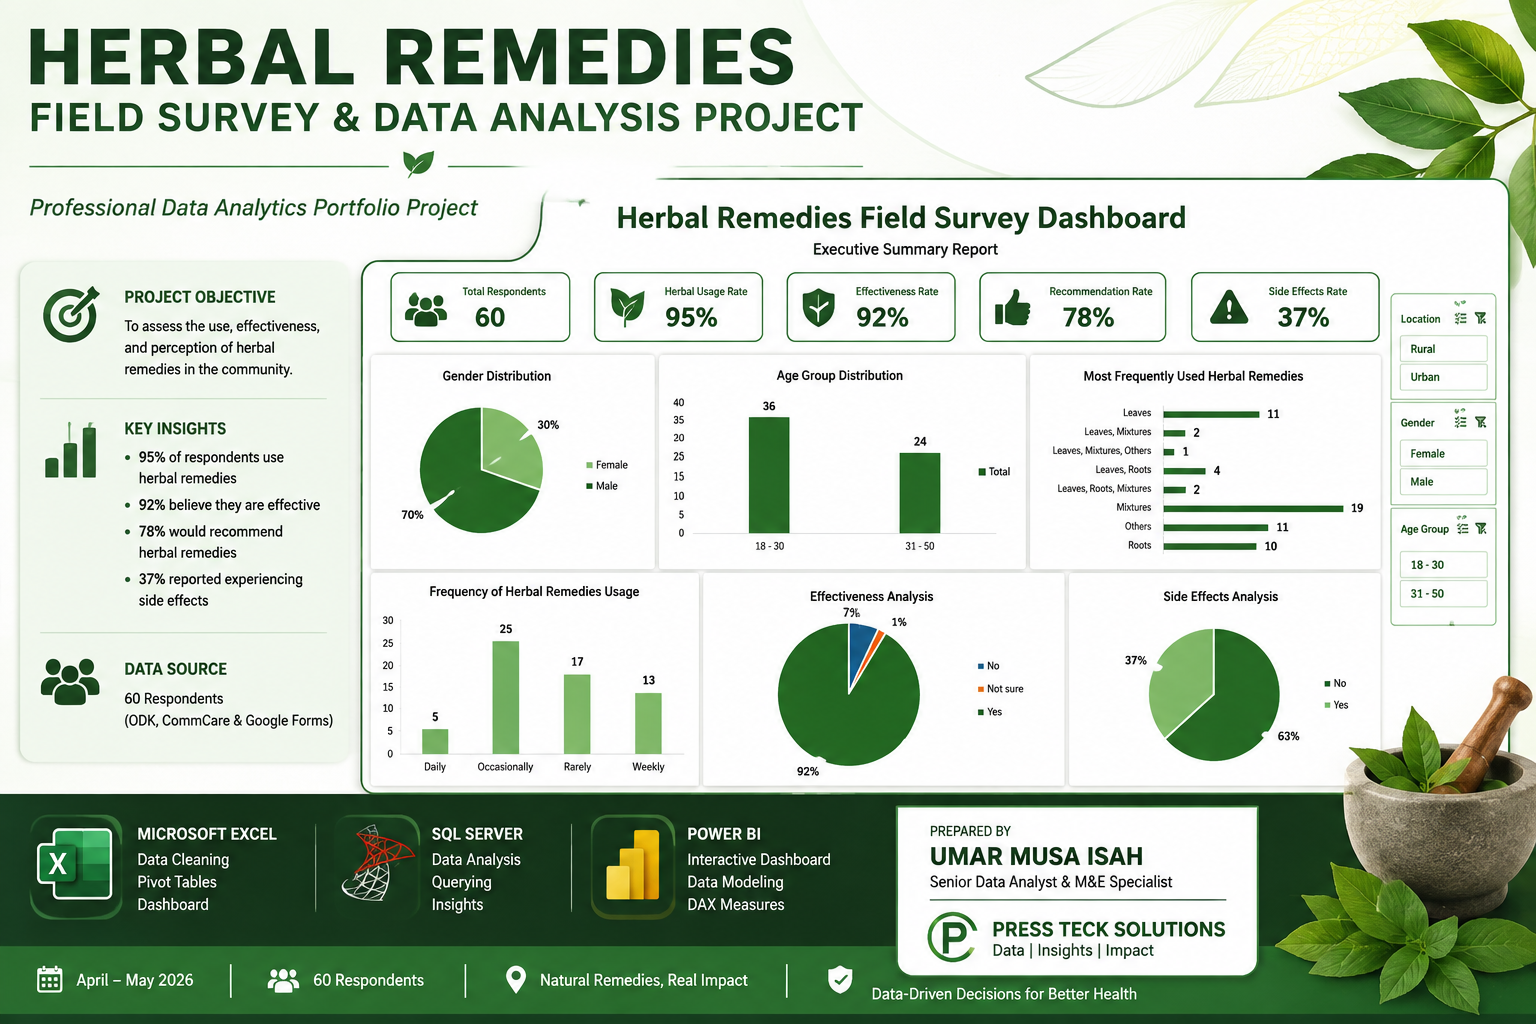

The page's visual inventory and layout, read from the dashboard file:
{"tool":"powerbi","page":{"name":"Executive Dashboard","canvas":[1280,720],"ordinal":0},"visuals":[{"type":"shape","box":[0,0,1279.1,79.5],"z":0},{"type":"textbox","box":[79.6,0,1148.7,54.8],"z":1000},{"type":"textbox","box":[82.1,52.3,1146.2,27.4],"z":2000},{"type":"card","title":"Total Respondents","fields":{"Values":["Measures_View.Total Respondents"]},"box":[13,100.2,204.3,139.2],"z":3000},{"type":"card","title":"Herbal Usage","fields":{"Values":["Measures_View.Herbal Usage %"]},"box":[239.4,98.9,204.3,140.5],"z":4000},{"type":"card","title":"Perceived Effectiveness","fields":{"Values":["Measures_View.Effectiveness %"]},"box":[465.9,98.9,204.3,140.5],"z":5000},{"type":"card","title":"Recommendation Rate","fields":{"Values":["Measures_View.Recommendation %"]},"box":[692.3,97.6,199.1,141.8],"z":6000},{"type":"card","title":"Reported Side Effects","fields":{"Values":["Measures_View.Side Effects %"]},"box":[912,99.4,200.2,137.9],"z":7000},{"type":"donutChart","title":"Gender Distribution","fields":{"Category":["Fact_HerbalSurvey.Gender"],"Y":["Measures_View.Total Respondents"]},"box":[13.7,251.4,364.6,210.3],"z":8000},{"type":"clusteredColumnChart","title":"Respondents by AgeGroup","fields":{"Category":["Fact_HerbalSurvey.AgeGroup"],"Y":["Measures_View.Total Respondents"]},"box":[390.8,251.4,364.6,210.3],"z":9000},{"type":"barChart","title":"Top 5 Most Used Herbs","fields":{"Category":["Fact_HerbalSurvey.HerbsUsed"],"Y":["Measures_View.Total Respondents"]},"box":[13.7,476.6,364.6,210.3],"z":10000},{"type":"clusteredColumnChart","title":"Herbal Remedy Usage Frequency","fields":{"Category":["Fact_HerbalSurvey.UsageFrequency"],"Y":["Measures_View.Total Respondents"]},"box":[390.8,476.6,364.6,210.3],"z":11000},{"type":"donutChart","title":"Perceived Effectiveness","fields":{"Category":["Fact_HerbalSurvey.IsEffective"],"Y":["Measures_View.Total Respondents"]},"box":[767.9,251.4,364.6,210.3],"z":12000},{"type":"donutChart","title":"Reported Side Effects","fields":{"Category":["Fact_HerbalSurvey.HasSideEffects"],"Y":["Measures_View.Total Respondents"]},"box":[767.9,476.6,364.6,210.3],"z":13000},{"type":"slicer","fields":{"Values":["Fact_HerbalSurvey.Gender"]},"box":[1143.7,99.6,119.5,139.4],"z":14000},{"type":"slicer","fields":{"Values":["Fact_HerbalSurvey.AgeGroup"]},"box":[1143.7,475.4,119.5,211.6],"z":15000},{"type":"slicer","fields":{"Values":["Fact_HerbalSurvey.Location"]},"box":[1143.7,251.4,118.2,210.3],"z":16000},{"type":"textbox","box":[11.2,687,365.9,28.6],"z":17000},{"type":"textbox","box":[1081.5,687,181.7,31.1],"z":18000}]}

Visuals, with their boxes on the page's 1280x720 design canvas (x1, y1, x2, y2). These are canvas units, not pixel positions in the 1536x1024 screenshot, which may show the page scaled, cropped or inside an application window:
shape: [left=0, top=0, right=1279, bottom=80]
textbox: [left=80, top=0, right=1228, bottom=55]
textbox: [left=82, top=52, right=1228, bottom=80]
"Total Respondents" card: [left=13, top=100, right=217, bottom=239]
"Herbal Usage" card: [left=239, top=99, right=444, bottom=239]
"Perceived Effectiveness" card: [left=466, top=99, right=670, bottom=239]
"Recommendation Rate" card: [left=692, top=98, right=891, bottom=239]
"Reported Side Effects" card: [left=912, top=99, right=1112, bottom=237]
"Gender Distribution" donutChart: [left=14, top=251, right=378, bottom=462]
"Respondents by AgeGroup" clusteredColumnChart: [left=391, top=251, right=755, bottom=462]
"Top 5 Most Used Herbs" barChart: [left=14, top=477, right=378, bottom=687]
"Herbal Remedy Usage Frequency" clusteredColumnChart: [left=391, top=477, right=755, bottom=687]
"Perceived Effectiveness" donutChart: [left=768, top=251, right=1132, bottom=462]
"Reported Side Effects" donutChart: [left=768, top=477, right=1132, bottom=687]
slicer - Fact_HerbalSurvey.Gender: [left=1144, top=100, right=1263, bottom=239]
slicer - Fact_HerbalSurvey.AgeGroup: [left=1144, top=475, right=1263, bottom=687]
slicer - Fact_HerbalSurvey.Location: [left=1144, top=251, right=1262, bottom=462]
textbox: [left=11, top=687, right=377, bottom=716]
textbox: [left=1082, top=687, right=1263, bottom=718]
